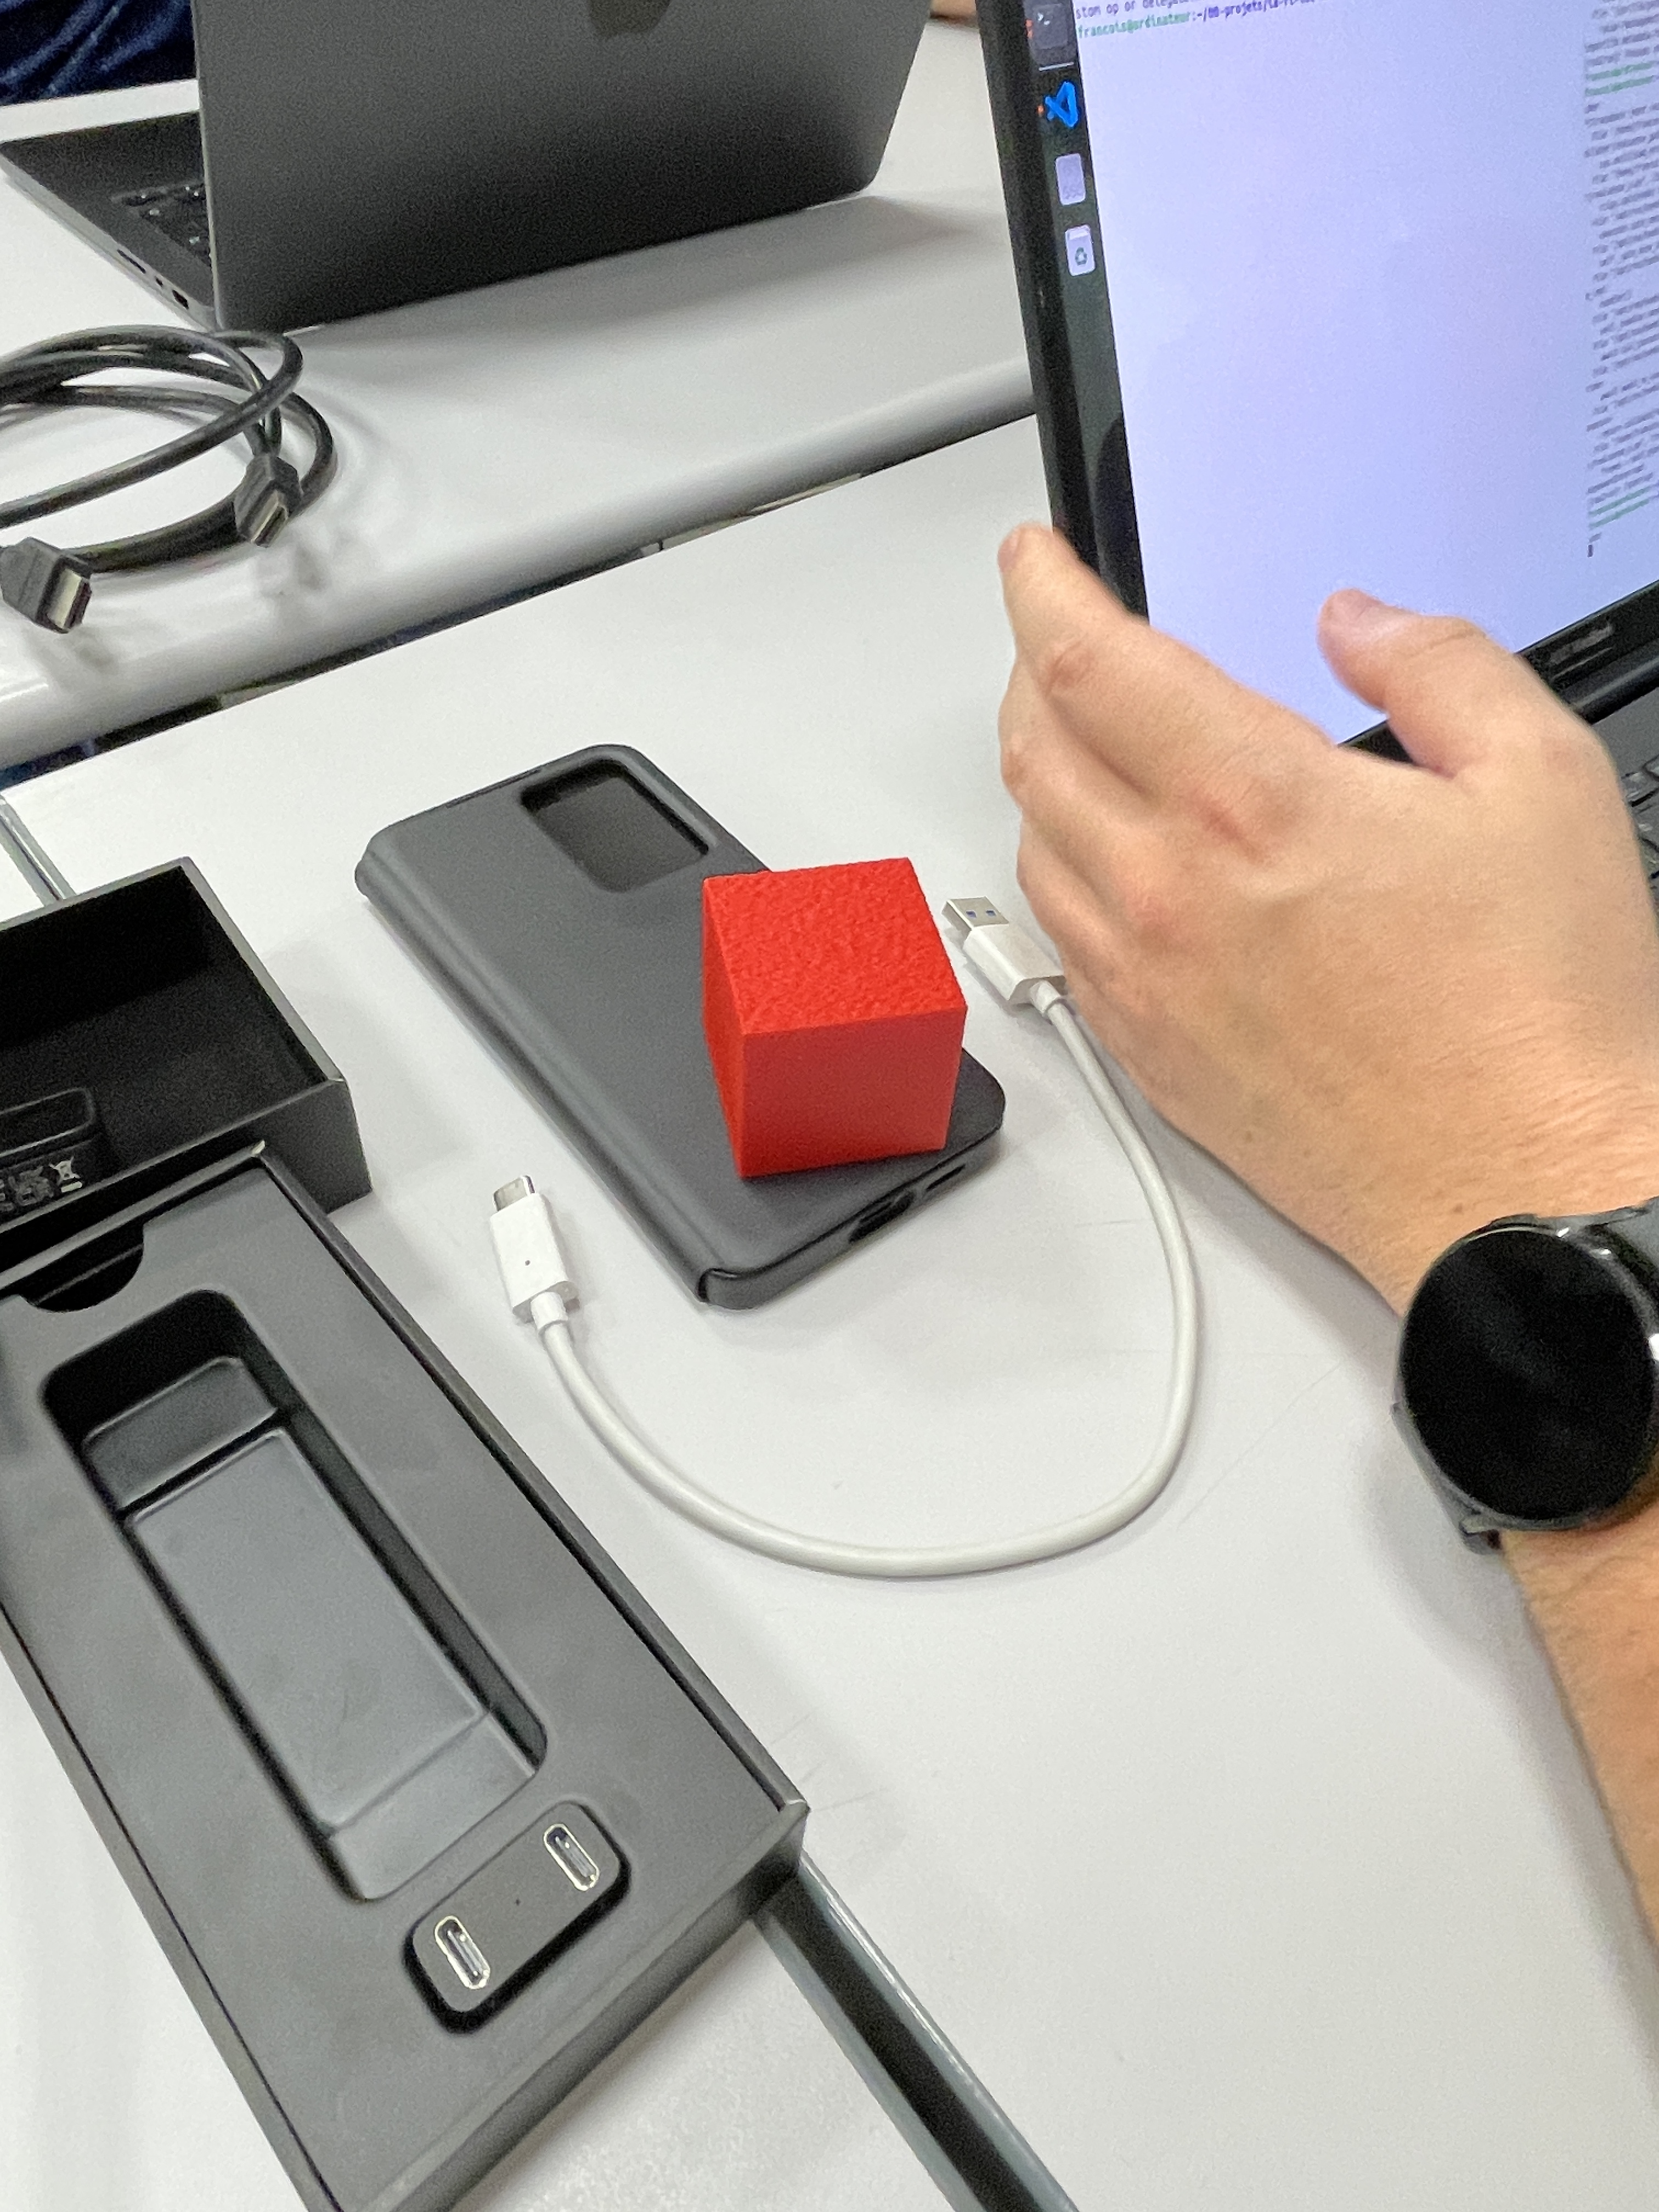red_cube: (703, 852, 969, 1181)
